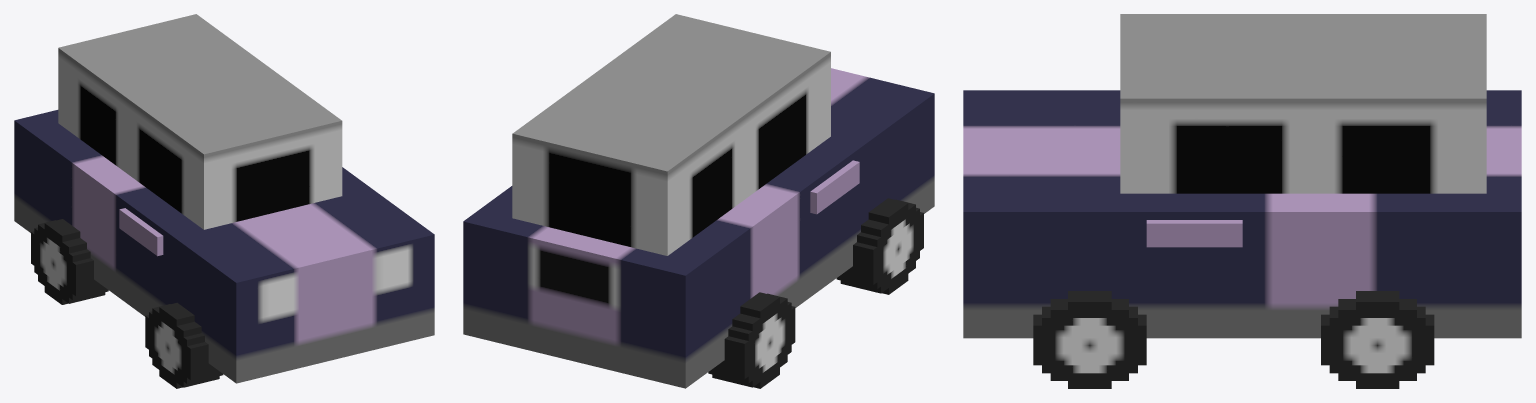
The model's file is car_1.fbx.
3 views of the same model, side by side, from view 1: azimuth 30°, elevation 25°; view 2: azimuth 150°, elevation 25°; view 3: azimuth 270°, elevation 25° (orthographic). The views are drawn at different scales.
Parts seen in each view (by area): view 1: body, back_right_wheel, back_left_wheel; view 2: body, back_left_wheel, back_right_wheel; view 3: body, front_left_wheel, front_right_wheel.
Part boxes in pixels (box(x1,y1,x2,y2)): body: box(14, 14, 434, 383); back_right_wheel: box(145, 302, 223, 388); back_left_wheel: box(31, 219, 108, 304); body: box(463, 14, 934, 388); back_left_wheel: box(708, 292, 795, 388); back_right_wheel: box(836, 198, 923, 294); body: box(963, 14, 1521, 338); front_left_wheel: box(1321, 291, 1434, 388); front_right_wheel: box(1033, 291, 1146, 388).
Bounding box in the file's own units: 39 × 33 × 64.
1 material, 1 textured.
